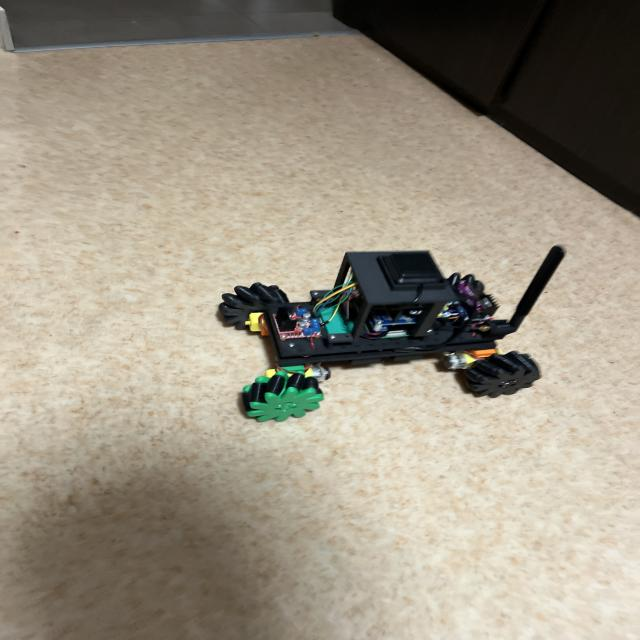robot: (219, 246, 564, 422)
